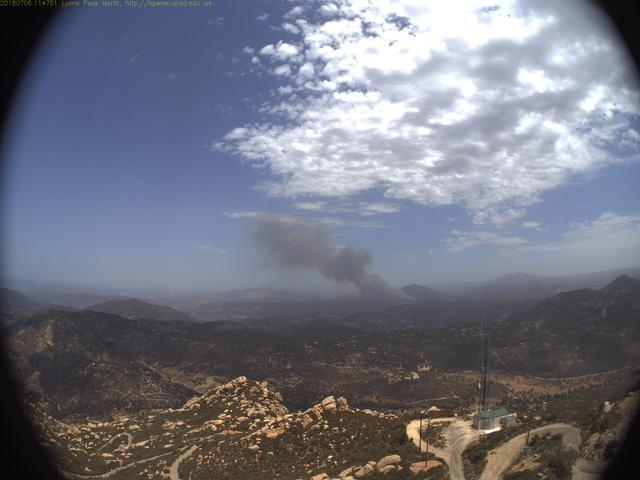smoke: (230, 205, 421, 316)
